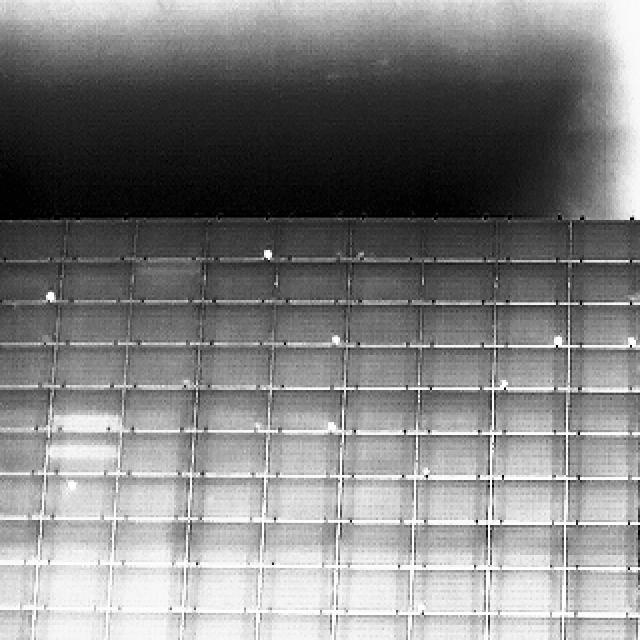Hotspots: (622, 330, 640, 348), (260, 246, 274, 262), (498, 376, 512, 392), (44, 291, 58, 306), (552, 334, 566, 348), (328, 332, 342, 346), (415, 600, 429, 614), (64, 479, 80, 491), (352, 249, 370, 259), (251, 417, 263, 431), (326, 418, 337, 433), (419, 464, 434, 475), (181, 376, 193, 386)
PV-modules: (336, 474, 418, 524), (185, 473, 268, 522), (488, 476, 568, 526), (486, 520, 566, 570), (560, 568, 640, 618), (412, 520, 492, 570), (262, 472, 342, 522), (111, 518, 191, 568), (32, 562, 112, 612), (334, 565, 413, 615), (37, 518, 116, 568), (338, 430, 418, 479), (416, 386, 494, 436), (562, 520, 640, 570), (263, 431, 344, 479), (258, 520, 339, 568), (185, 522, 264, 571), (269, 343, 349, 391), (192, 385, 272, 433), (190, 430, 270, 478), (120, 385, 200, 433), (342, 343, 420, 392), (114, 473, 192, 522), (420, 257, 496, 307), (183, 564, 260, 613), (418, 342, 495, 391), (265, 387, 347, 433), (334, 520, 414, 567), (116, 429, 196, 476), (106, 564, 186, 611), (562, 430, 640, 478), (562, 390, 640, 438), (492, 344, 570, 392), (492, 301, 570, 349), (418, 301, 496, 349), (43, 471, 116, 522), (566, 258, 640, 308), (277, 214, 351, 264), (259, 564, 336, 612), (486, 568, 566, 614), (410, 567, 488, 614), (493, 258, 571, 305), (196, 342, 274, 389), (48, 384, 126, 431), (496, 216, 572, 264), (346, 299, 422, 347), (272, 300, 348, 348), (341, 388, 418, 435), (568, 340, 640, 390), (489, 431, 567, 477), (491, 390, 569, 436), (122, 342, 200, 388), (198, 299, 274, 346), (566, 475, 640, 523), (566, 300, 640, 348), (54, 300, 132, 345), (415, 477, 491, 523), (416, 431, 492, 477), (128, 301, 204, 347), (422, 216, 496, 263), (348, 216, 422, 263), (347, 258, 422, 304), (275, 258, 350, 304), (59, 258, 134, 304), (131, 258, 205, 304), (201, 258, 277, 302), (64, 218, 138, 263), (52, 343, 127, 387), (568, 215, 640, 260), (46, 430, 119, 474), (205, 216, 276, 261), (135, 217, 206, 260), (0, 221, 67, 265), (0, 342, 55, 391), (0, 260, 61, 304), (104, 607, 184, 640), (256, 607, 334, 640), (180, 607, 258, 640), (0, 300, 56, 345), (32, 607, 108, 640), (0, 388, 51, 433), (410, 610, 486, 640), (484, 612, 564, 640), (560, 612, 640, 640), (332, 612, 410, 640), (0, 428, 46, 472), (0, 475, 43, 521), (562, 615, 640, 640), (0, 520, 38, 568), (0, 562, 36, 609), (0, 607, 32, 640)
